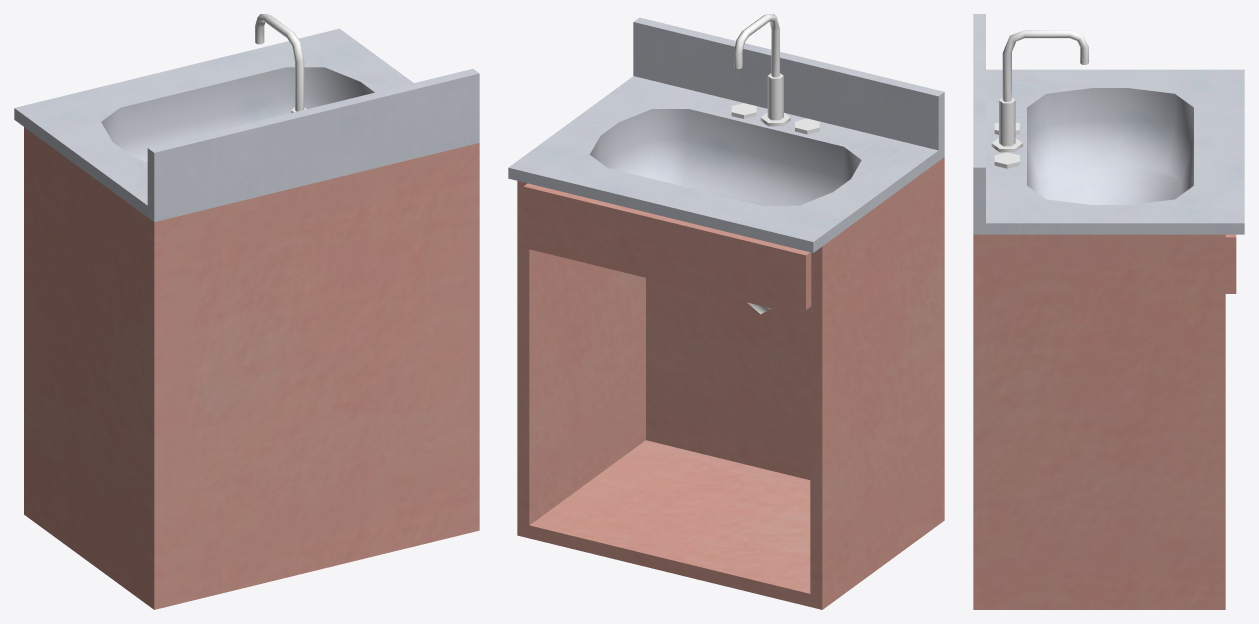
Rendered from Washbasin_01.glb.
3 renders of one model, left to right at view 1: azimuth 30°, elevation 25°; view 2: azimuth 150°, elevation 25°; view 3: azimuth 270°, elevation 25°, orthographic. The views are drawn at different scales.
Visible parts, largest first — view 1: Washbasin_01; view 2: Washbasin_01; view 3: Washbasin_01.
Boxes of the visible parts, <box> form: Washbasin_01: <box>14,14,479,609</box>; Washbasin_01: <box>508,14,944,609</box>; Washbasin_01: <box>973,14,1244,609</box>.
Bounding box in the file's own units: 0.8616 × 1.32 × 0.6423.
Materials: 4 (3 with a texture image).
